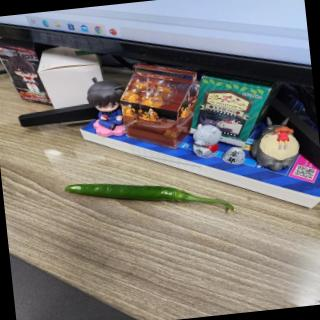Cabai Hijau: (62, 156, 240, 247)
